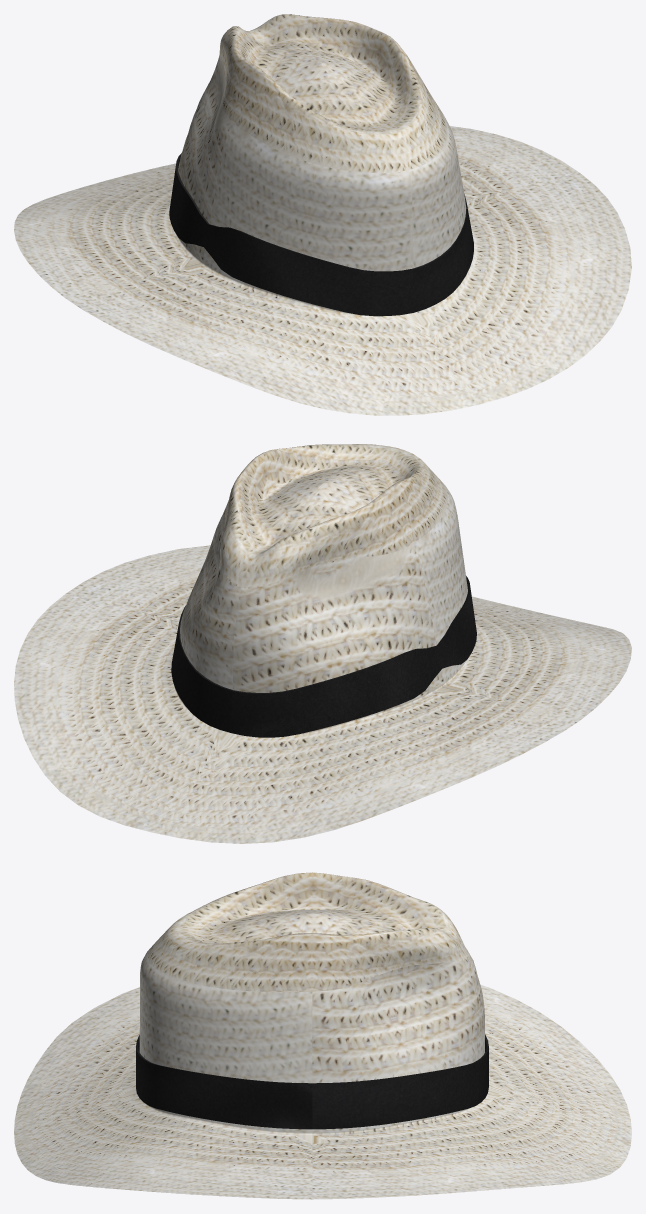
Rendered from sombrero aguadenio solapa poquenia.fbx.
The picture shows the model from 3 angles, top to bottom: view 1: azimuth 30°, elevation 25°; view 2: azimuth 150°, elevation 25°; view 3: azimuth 270°, elevation 25°; orthographic projection. The views are drawn at different scales.
Visible parts, largest first — view 1: Sombrero, Cinta1; view 2: Sombrero, Cinta1; view 3: Sombrero, Cinta1.
Part boxes in pixels (left/top/right/bottom): Sombrero: left=14, top=14, right=631, bottom=415; Cinta1: left=169, top=153, right=473, bottom=316; Sombrero: left=14, top=444, right=631, bottom=843; Cinta1: left=171, top=576, right=476, bottom=737; Sombrero: left=14, top=872, right=631, bottom=1199; Cinta1: left=136, top=1034, right=488, bottom=1129.
Size of the model in its own units: 27.97 by 12.44 by 30.34.
3 materials, 3 textured.
